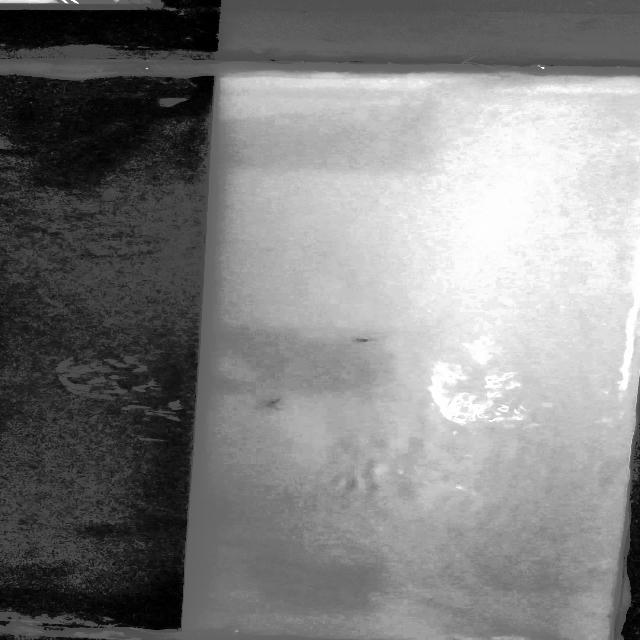shrimp: (240, 389, 302, 414), (344, 331, 380, 348)
